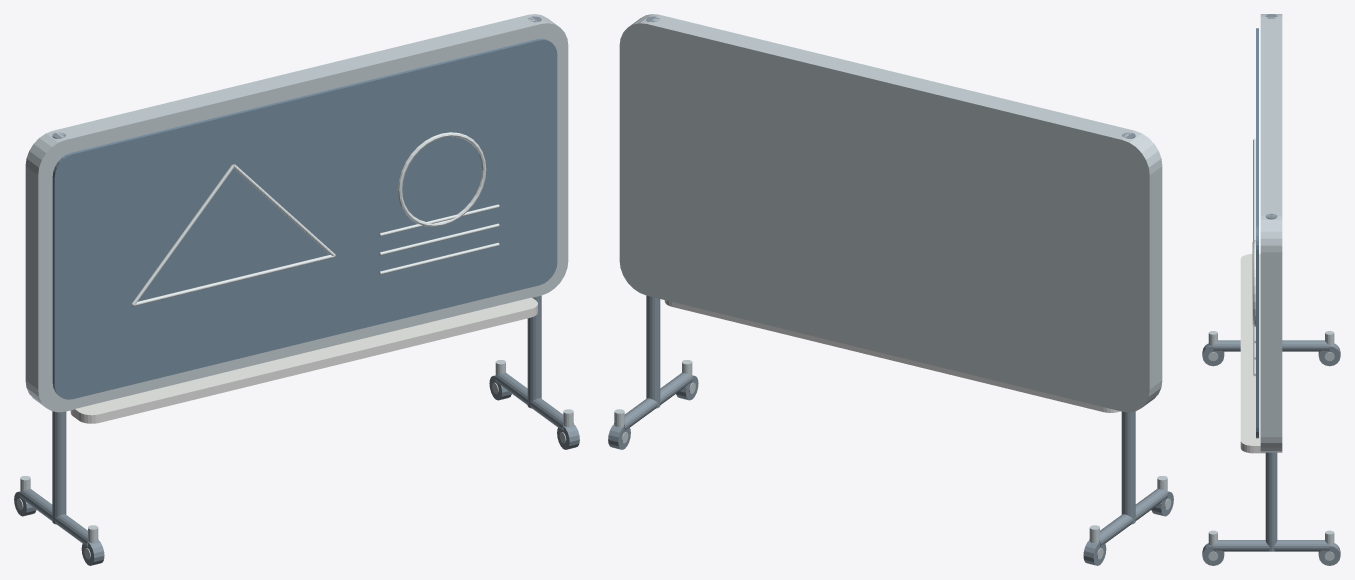
The model's file is school_learning_board.glb.
The picture shows the model from 3 angles, left to right: view 1: azimuth 30°, elevation 25°; view 2: azimuth 150°, elevation 25°; view 3: azimuth 270°, elevation 25°; orthographic projection. The views are drawn at different scales.
Visible parts, largest first — view 1: decor_354d66_matte, decor_9aadb8_metal, decor_d8dcd8_matte, decor_455665_metal, decor_c9d9de_matte; view 2: decor_9aadb8_metal, decor_455665_metal, decor_d8dcd8_matte; view 3: decor_9aadb8_metal, decor_455665_metal, decor_d8dcd8_matte, decor_354d66_matte, decor_c9d9de_matte.
Part boxes in pixels (x1,y1,x2,y2): decor_354d66_matte: (52,38,557,399); decor_9aadb8_metal: (16,14,573,559); decor_d8dcd8_matte: (70,297,537,423); decor_455665_metal: (14,16,579,565); decor_c9d9de_matte: (131,132,499,306); decor_9aadb8_metal: (614,14,1171,559); decor_455665_metal: (608,16,1173,565); decor_d8dcd8_matte: (664,300,1119,412); decor_9aadb8_metal: (1208,14,1334,560); decor_455665_metal: (1202,14,1340,565); decor_d8dcd8_matte: (1240,254,1265,453); decor_354d66_matte: (1256,28,1258,438); decor_c9d9de_matte: (1252,138,1255,376).
Bounding box in the file's own units: 2.9 × 2.11 × 0.76.
